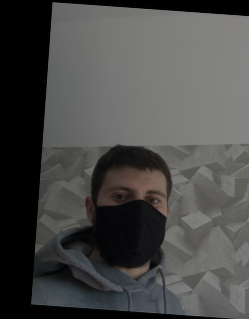with_mask: (93, 177, 166, 270)
